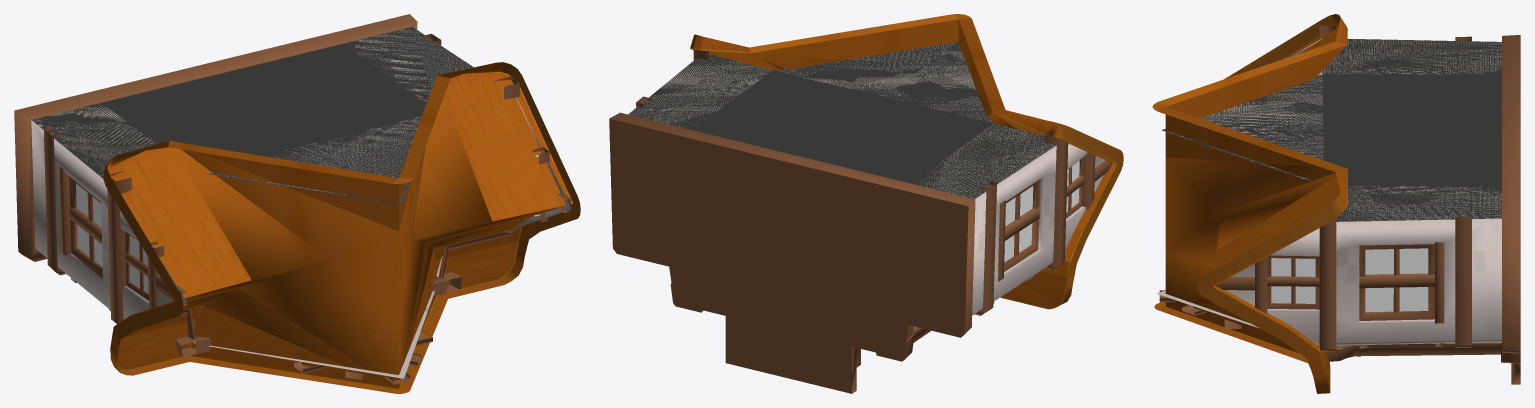
File: house-common.glb
3 renders of one model, left to right at view 1: azimuth 30°, elevation 25°; view 2: azimuth 150°, elevation 25°; view 3: azimuth 270°, elevation 25°, orthographic. The views are drawn at different scales.
Visible parts, largest first — view 1: HouseWallPA04StandardA_node16, HouseWallPA04StandardA_node10, HouseWallPA04StandardA_node13, HouseWallPA04StandardA_node15; view 2: HouseWallPA04StandardA_node13, HouseWallPA04StandardA_node10, HouseWallPA04StandardA_node16, HouseWallPA04StandardA_node15; view 3: HouseWallPA04StandardA_node16, HouseWallPA04StandardA_node10, HouseWallPA04StandardA_node13, HouseWallPA04StandardA_node15.
Boxes of the visible parts, left/top/right/bottom form: HouseWallPA04StandardA_node16: left=31, top=29, right=580, bottom=393; HouseWallPA04StandardA_node10: left=31, top=27, right=473, bottom=204; HouseWallPA04StandardA_node13: left=14, top=14, right=570, bottom=384; HouseWallPA04StandardA_node15: left=76, top=152, right=534, bottom=293; HouseWallPA04StandardA_node13: left=609, top=49, right=1112, bottom=393; HouseWallPA04StandardA_node10: left=628, top=42, right=1055, bottom=198; HouseWallPA04StandardA_node16: left=629, top=14, right=1123, bottom=328; HouseWallPA04StandardA_node15: left=1004, top=160, right=1079, bottom=262; HouseWallPA04StandardA_node16: left=1152, top=14, right=1501, bottom=393; HouseWallPA04StandardA_node10: left=1161, top=38, right=1501, bottom=356; HouseWallPA04StandardA_node13: left=1159, top=25, right=1520, bottom=384; HouseWallPA04StandardA_node15: left=1271, top=74, right=1428, bottom=312.
Size of the model in its own units: 48.63 by 29.3 by 39.5.
7 materials, 3 textured.
